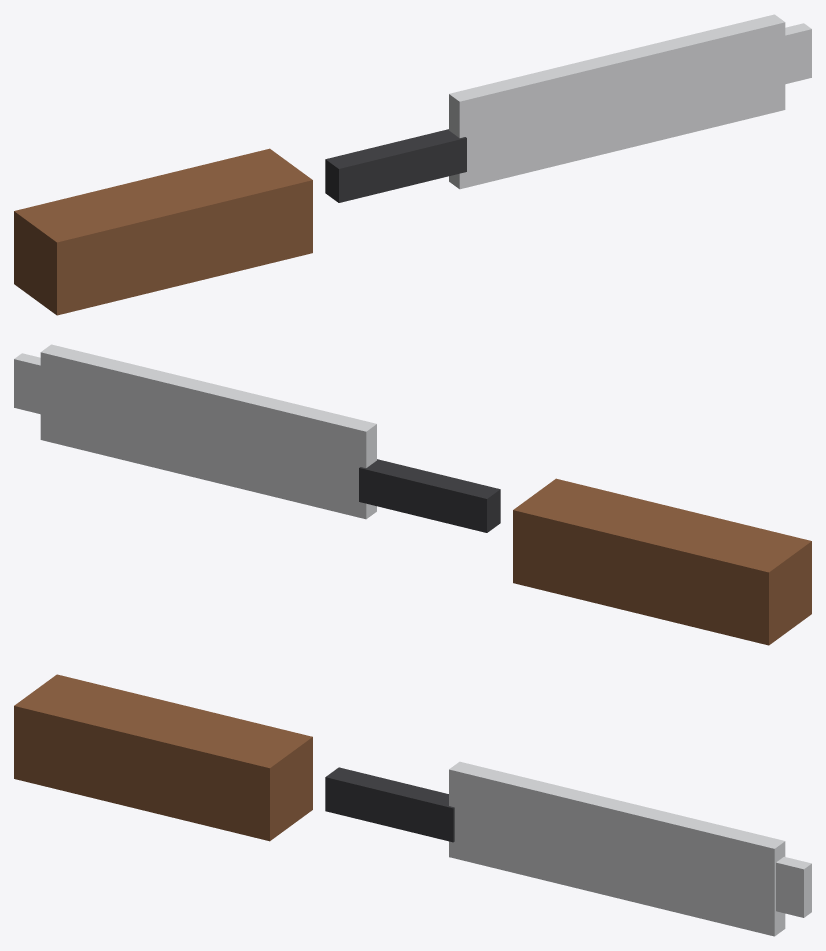
The model's file is SM_Wpn_Knife.fbx.
The picture shows the model from 3 angles, top to bottom: view 1: azimuth 30°, elevation 25°; view 2: azimuth 150°, elevation 25°; view 3: azimuth 330°, elevation 25°; orthographic projection.
Parts seen in each view (by area): view 1: SM_Wpn_Knife; view 2: SM_Wpn_Knife; view 3: SM_Wpn_Knife.
Boxes of the visible parts, x1,y1,x2,y2 form: SM_Wpn_Knife: [14, 14, 811, 315]; SM_Wpn_Knife: [14, 344, 811, 645]; SM_Wpn_Knife: [14, 674, 811, 936].
Size of the model in its own units: 33.2 by 3.2 by 4.1.
